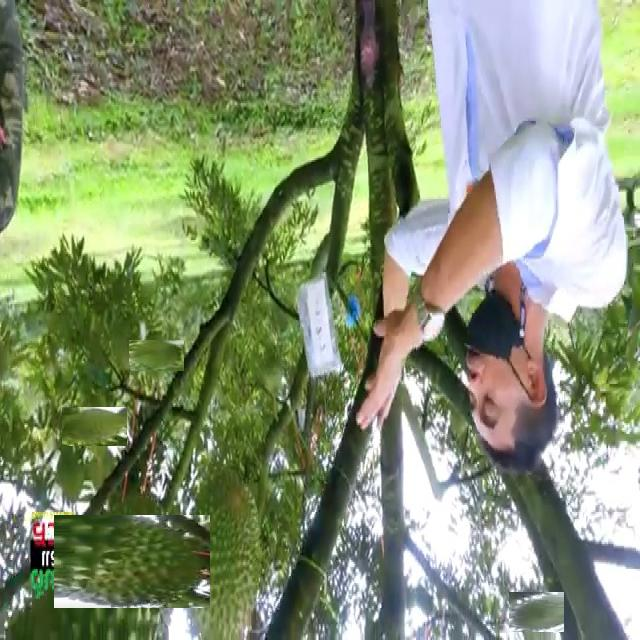durian: (69, 500, 195, 624), (179, 466, 264, 640), (68, 400, 121, 452), (512, 588, 560, 636), (135, 334, 178, 377)
